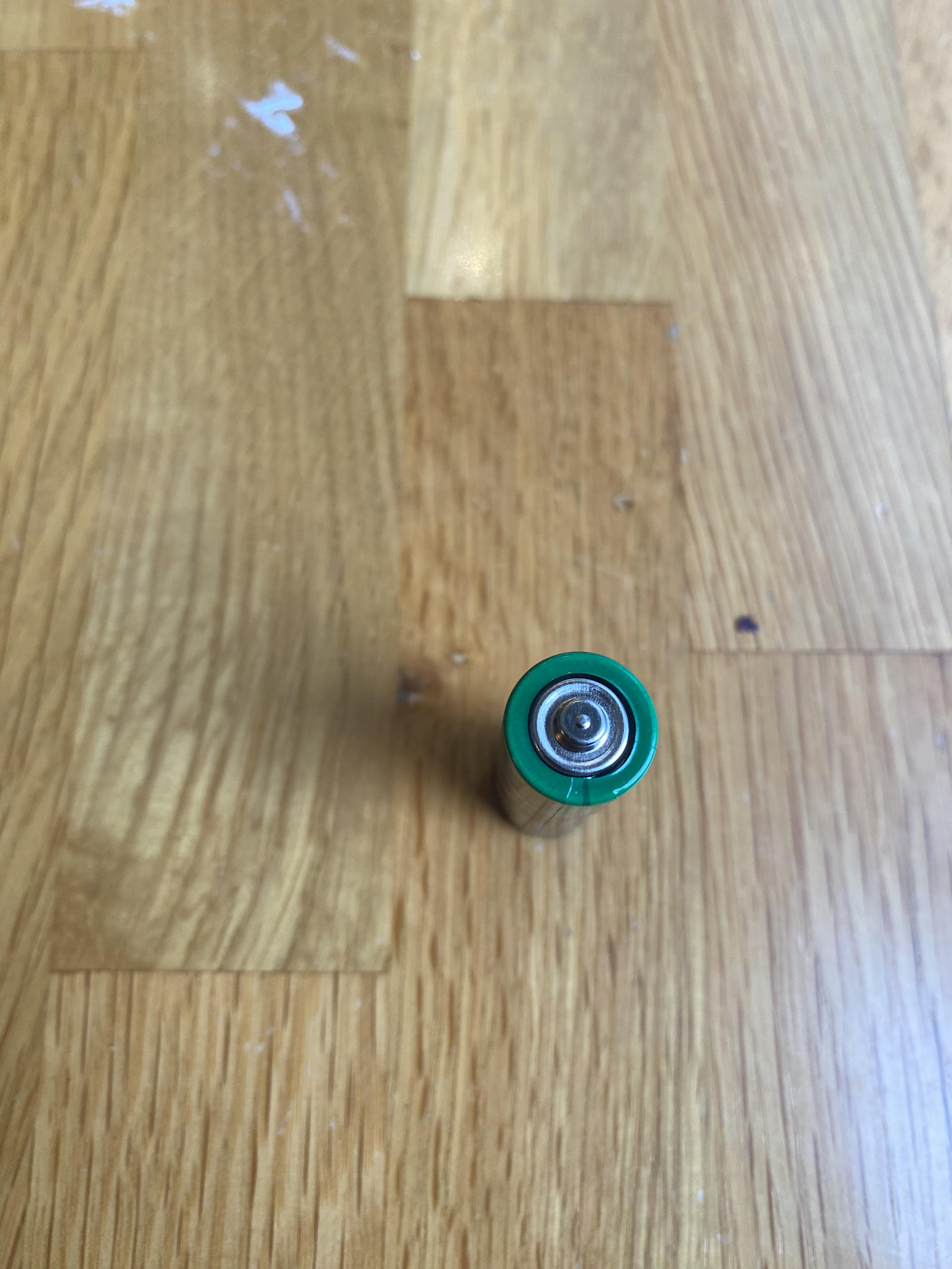AA: (495, 649, 660, 836)
